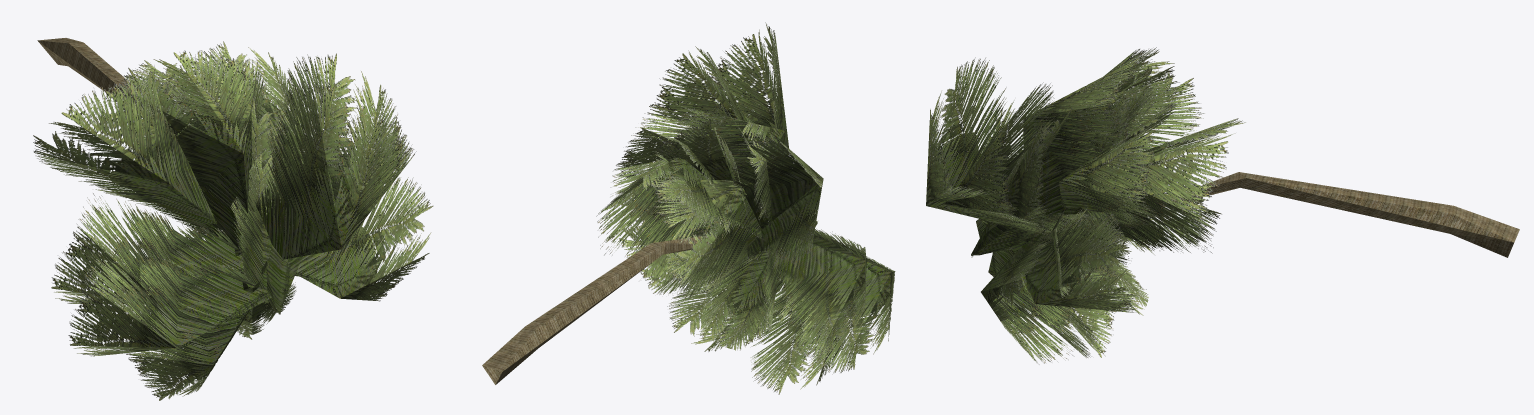
File: Palmera.obj
3 renders of one model, left to right at view 1: azimuth 30°, elevation 25°; view 2: azimuth 150°, elevation 25°; view 3: azimuth 270°, elevation 25°, orthographic. The views are drawn at different scales.
Visible parts, largest first — view 1: object__6, NoName_803MeshMesh_1; view 2: object__6, NoName_803MeshMesh_1; view 3: object__6, NoName_803MeshMesh_1.
Part boxes in pixels (left/top/right/bottom): object__6: left=33, top=41, right=433, bottom=400; NoName_803MeshMesh_1: left=37, top=38, right=168, bottom=125; object__6: left=596, top=22, right=895, bottom=394; NoName_803MeshMesh_1: left=482, top=234, right=722, bottom=384; object__6: left=926, top=47, right=1245, bottom=364; NoName_803MeshMesh_1: left=1134, top=172, right=1519, bottom=257.
Size of the model in its own units: 2.44 by 2.34 by 3.56.
1 material, 1 textured.
